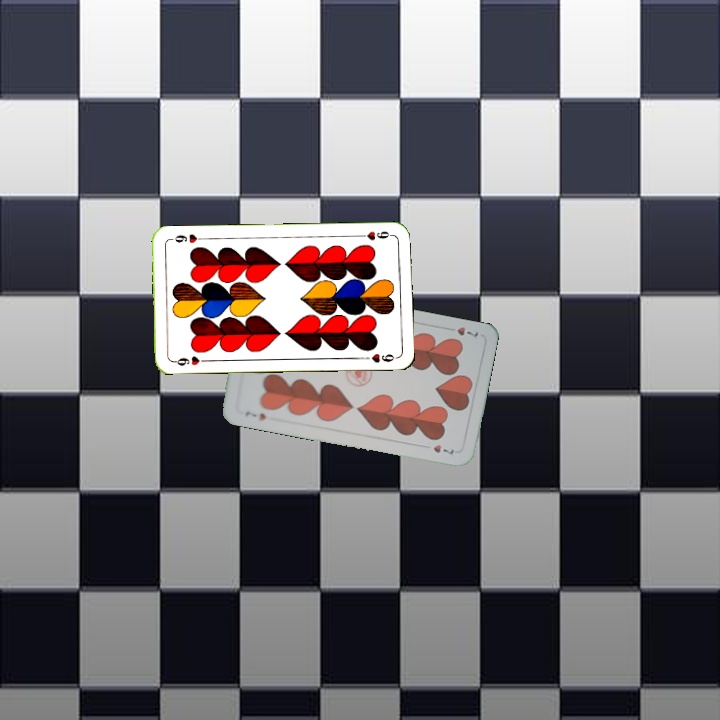H7: (442, 323, 481, 340), (241, 407, 268, 424)
H9: (169, 352, 209, 368), (355, 227, 395, 243)
